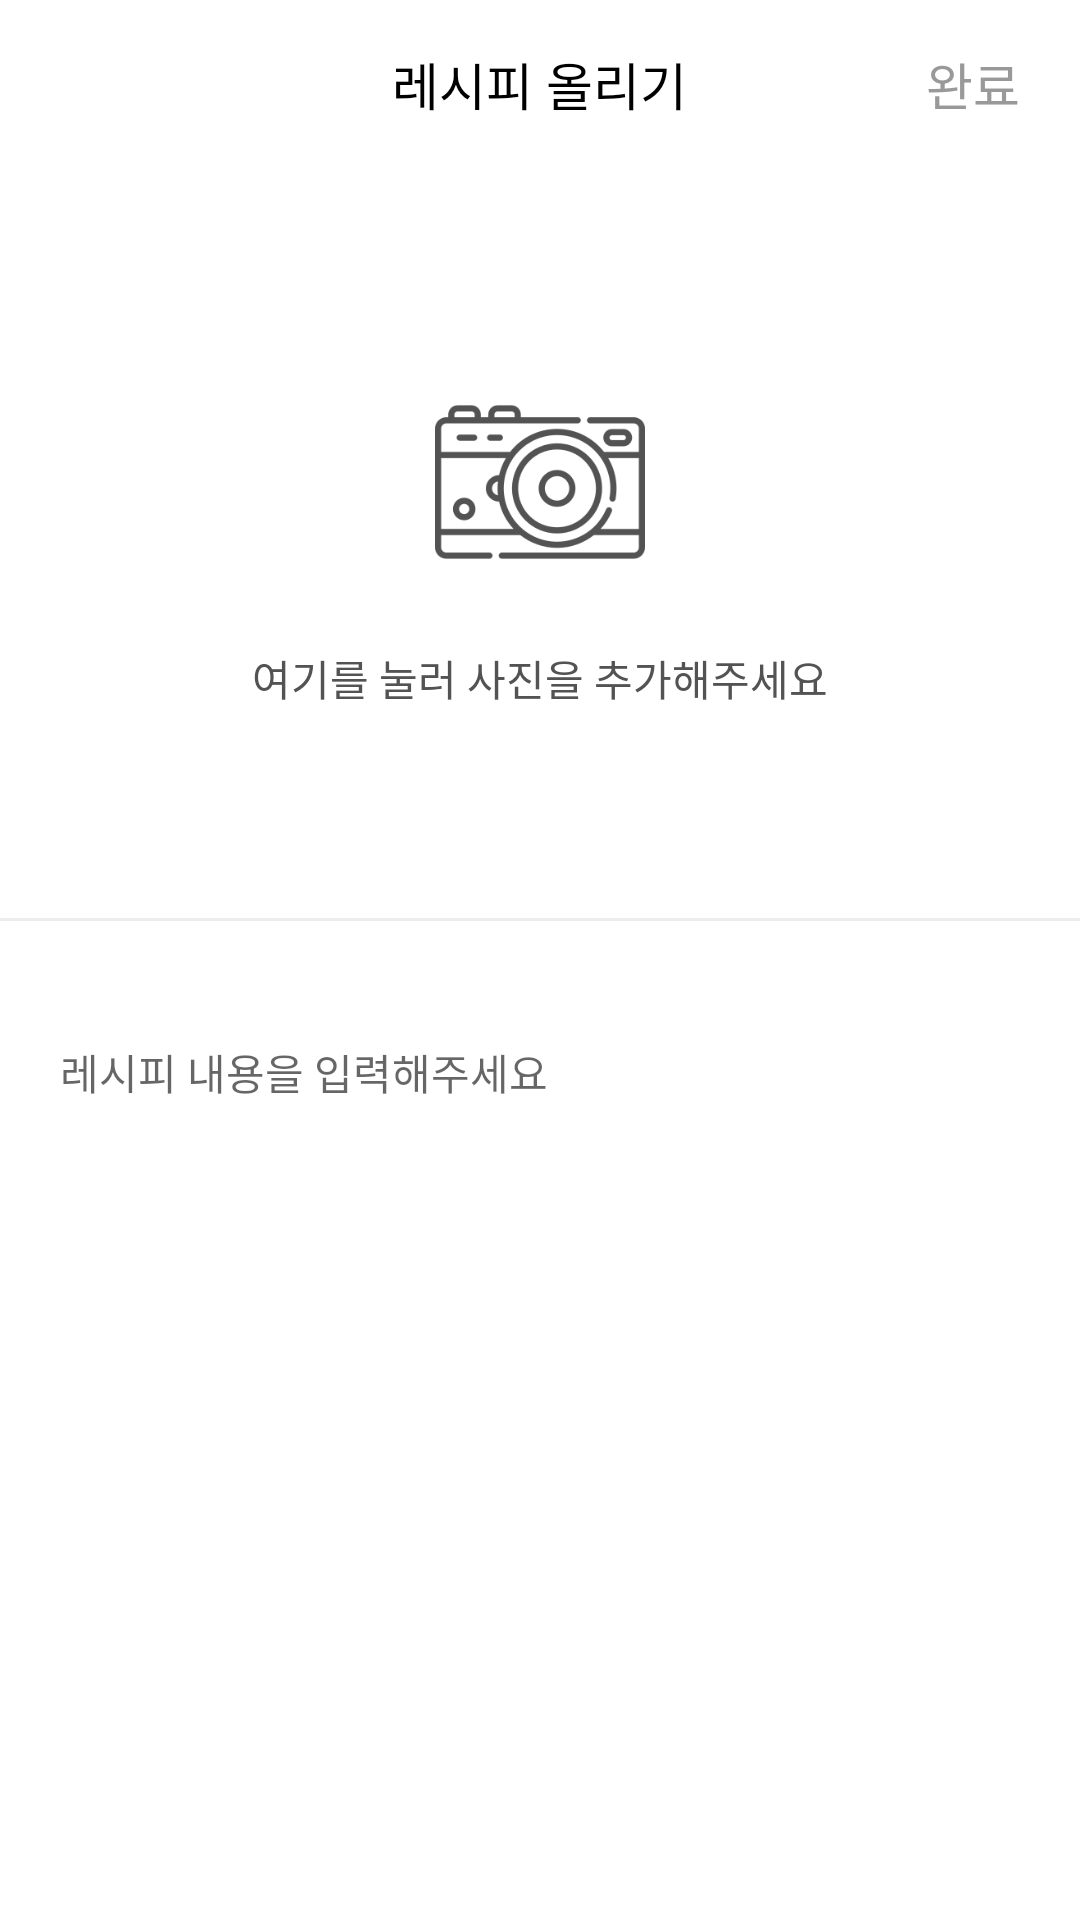

Named icons in this screenshot (1080*1920) and their centers, point (x, y):
camera: point (540, 482)
